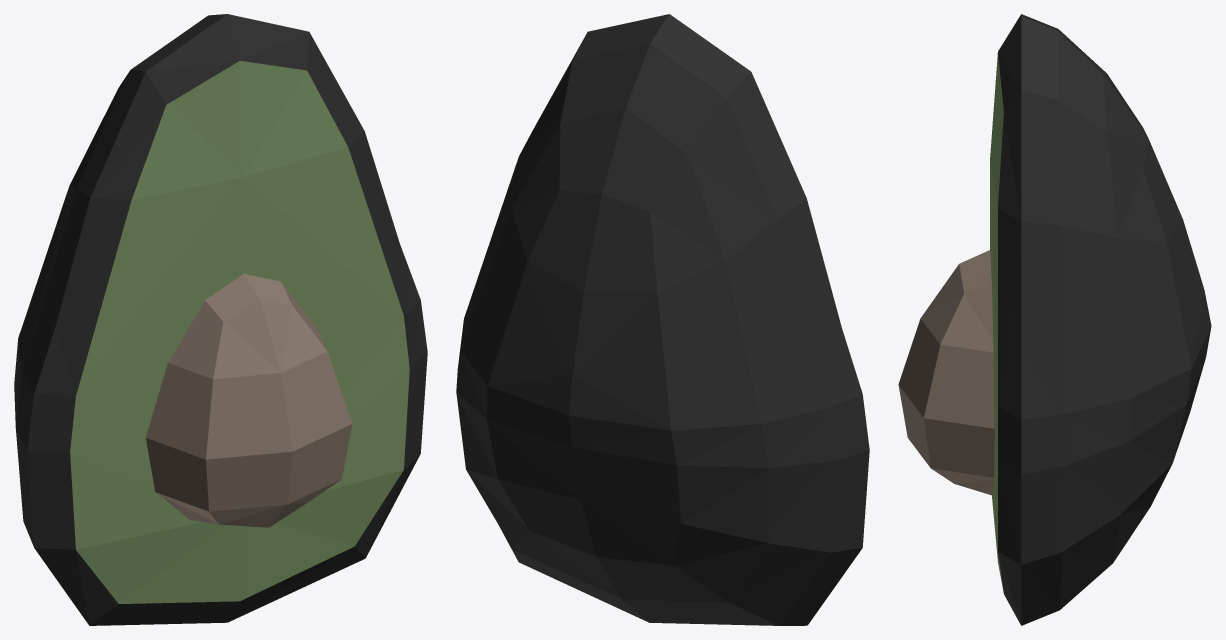
Rendered from avocado.glb.
3 views of the same model, side by side, from view 1: azimuth 30°, elevation 25°; view 2: azimuth 150°, elevation 25°; view 3: azimuth 270°, elevation 25° (orthographic). The views are drawn at different scales.
Parts seen in each view (by area): view 1: Avocado; view 2: Avocado; view 3: Avocado.
Part boxes in pixels (bbox=[...]): Avocado: bbox=[14, 14, 427, 625]; Avocado: bbox=[456, 14, 869, 625]; Avocado: bbox=[898, 14, 1211, 625].
Size of the model in its own units: 0.7531 by 1.09 by 0.5398.
